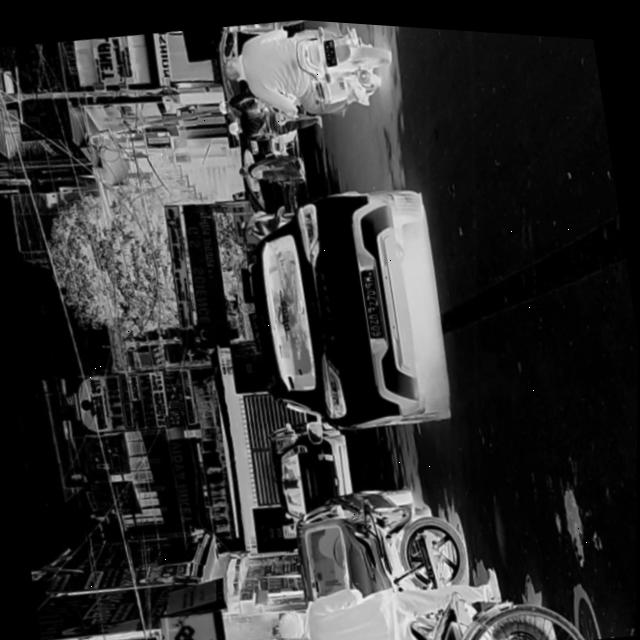0: (370, 305, 381, 314), (365, 282, 377, 290), (372, 318, 383, 326)
2: (370, 311, 381, 319)
6: (372, 324, 384, 332)
7: (366, 288, 377, 295)
F: (369, 300, 380, 308)
IND: (363, 265, 373, 272)
Indian_registered: (362, 264, 384, 332)
M: (364, 269, 376, 277)
P: (364, 275, 375, 283)
Z: (368, 293, 379, 301)
